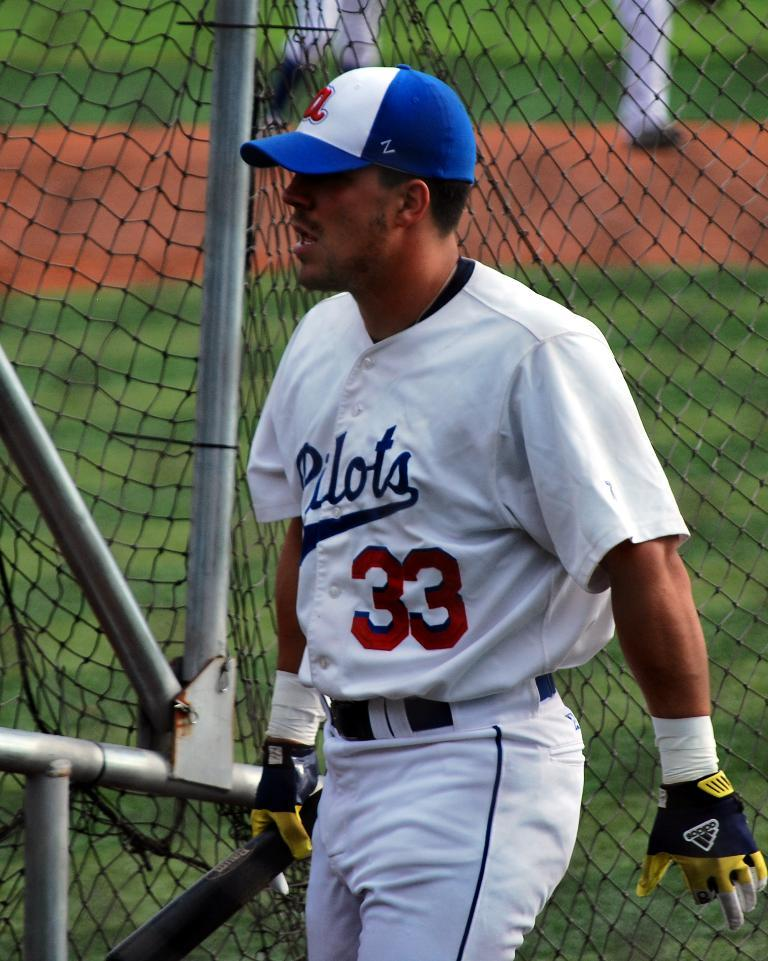Hat: (236, 65, 470, 183)
